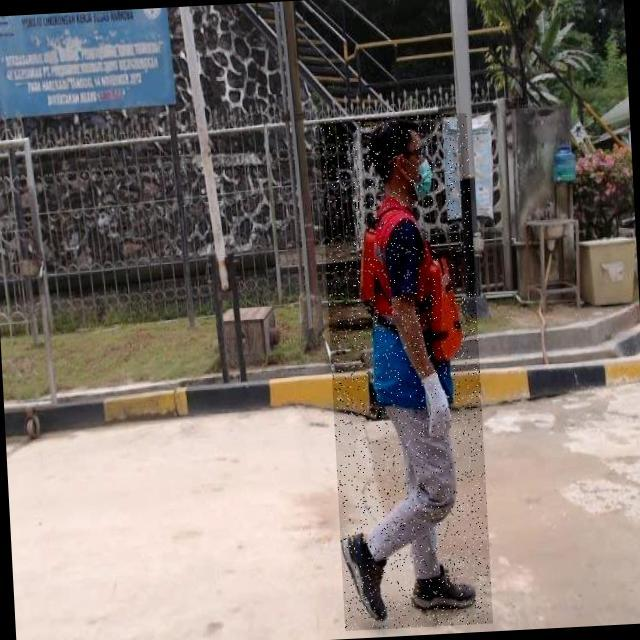Gloves: (413, 369, 455, 448)
Person: (323, 113, 521, 640)
Safety Boot: (341, 528, 393, 627), (408, 564, 478, 617)
Safety Vest: (358, 196, 470, 415)
no-helmet: (366, 123, 431, 156)
